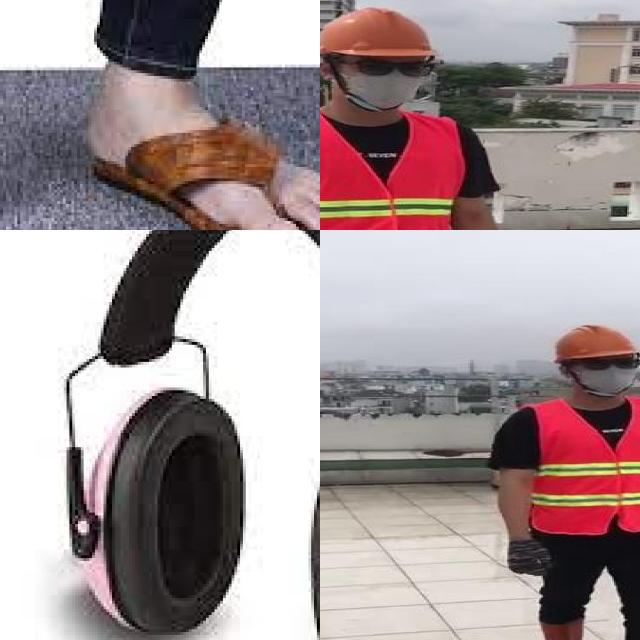Ear-protection: (42, 230, 320, 640)
Sandals: (80, 54, 320, 230)
boots: (535, 619, 594, 640)
face_mask: (336, 55, 431, 112), (572, 355, 640, 395)
glasses: (346, 54, 435, 80), (573, 352, 640, 375)
hand_glove: (509, 540, 548, 575)
head_helmet: (320, 6, 442, 60), (553, 321, 638, 362)
person: (320, 1, 545, 230), (482, 319, 640, 640)
vest: (320, 116, 467, 230), (521, 400, 640, 534)
